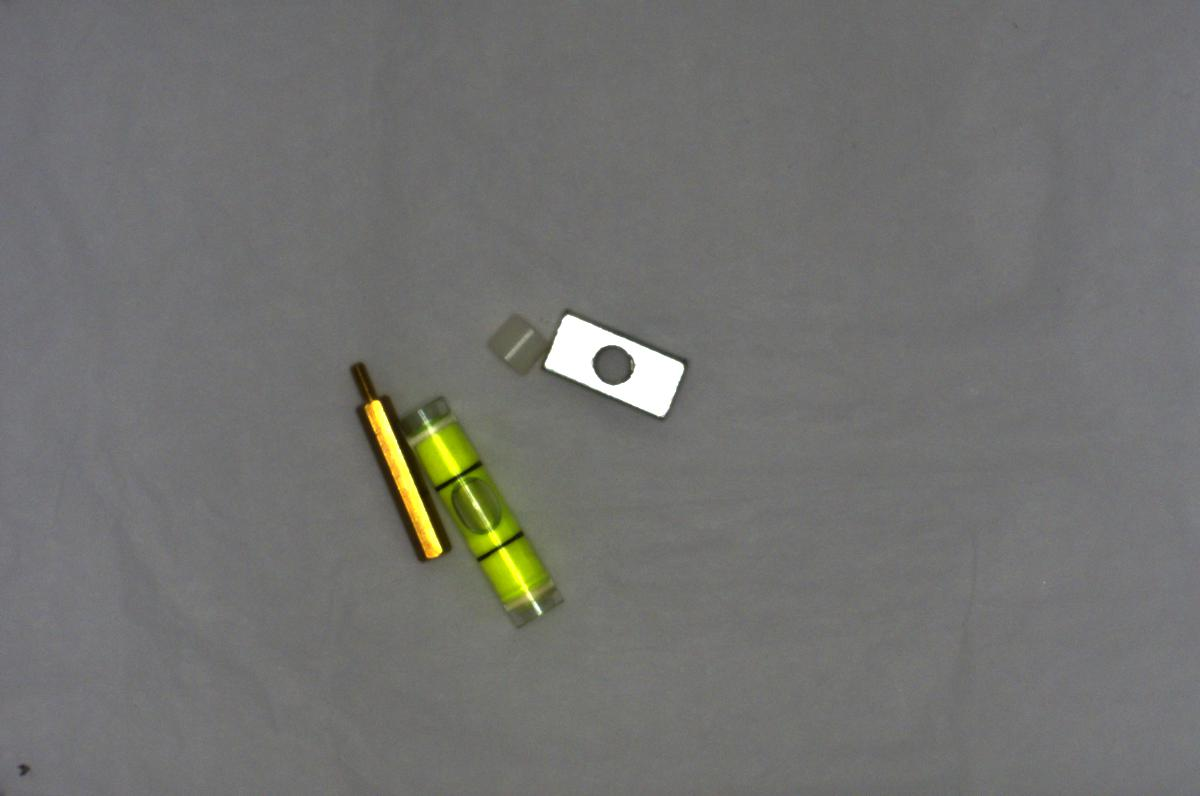Hexagon pillar: (341, 354, 442, 565)
Horizontal bubble: (393, 388, 565, 633)
Plastic cushion pillar: (472, 312, 545, 381)
Rectangular nut: (537, 308, 692, 421)
